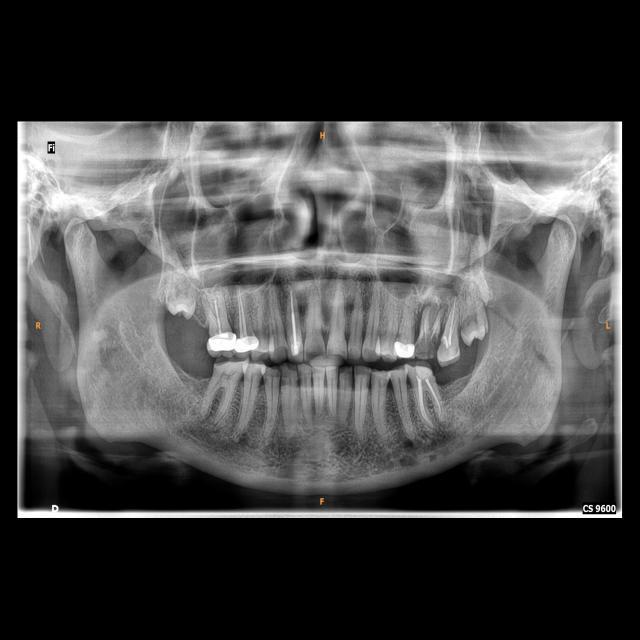dentin-curugu: (415, 327, 441, 359), (460, 312, 480, 336), (285, 362, 299, 373)
kanal-tedavisi: (416, 378, 444, 428), (228, 286, 250, 335), (285, 285, 302, 340), (211, 288, 226, 336), (444, 301, 456, 349)
kaplama: (235, 332, 261, 354), (208, 333, 238, 352), (394, 337, 417, 360)
